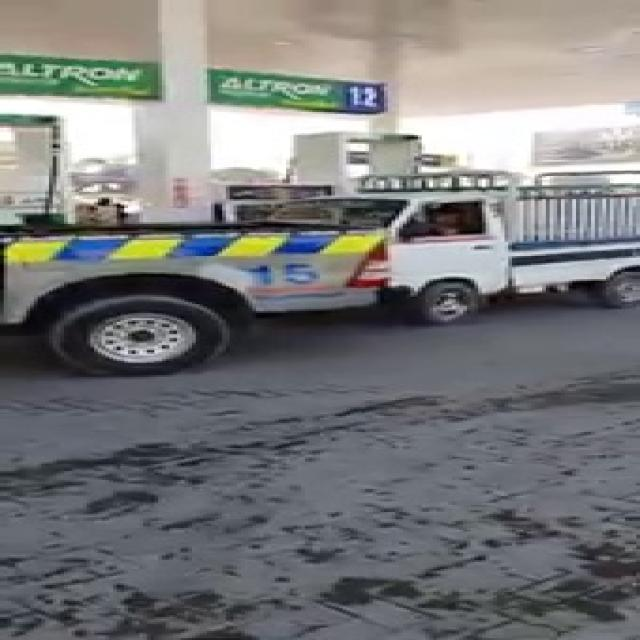police: (0, 170, 423, 400)
